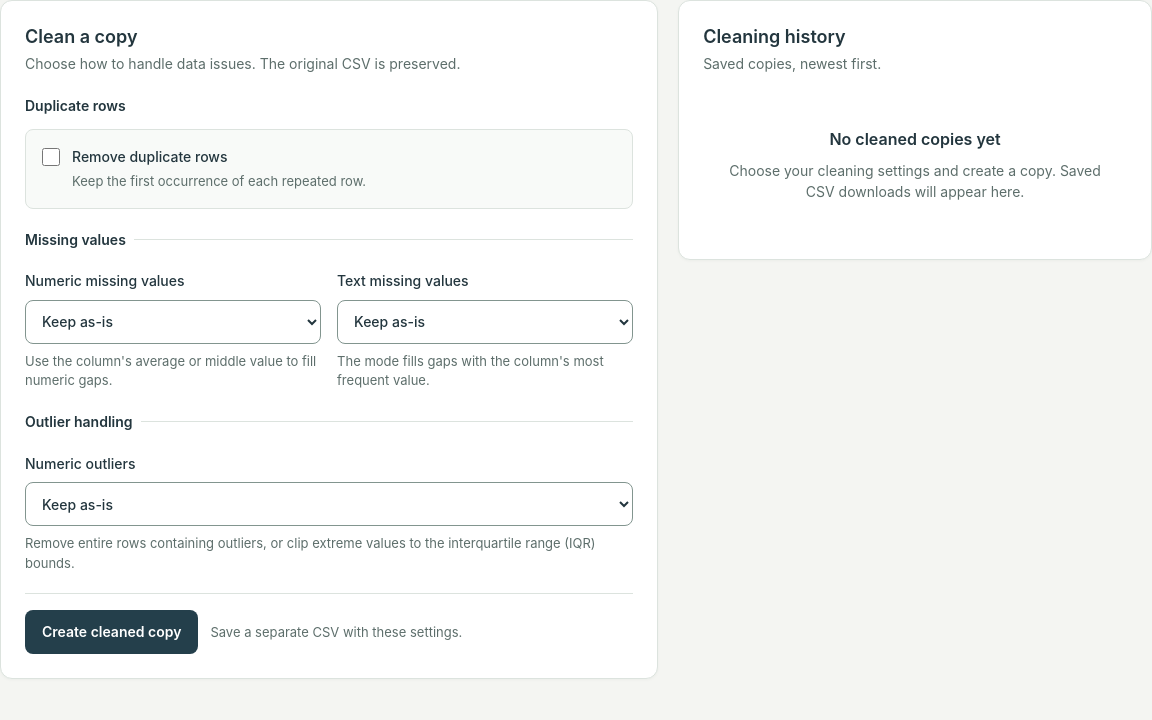
CleaningPanel › preserves the median / mode / clip_iqr cleaning request and download
The width and height of the screenshot is (1152, 720).
Expected: the heading "No cleaned copies yet" is shown, [829,129,1001,149]
Click the checkbox labelled "Remove duplicate rows".
click(51, 157)  # box [42,148,60,166]
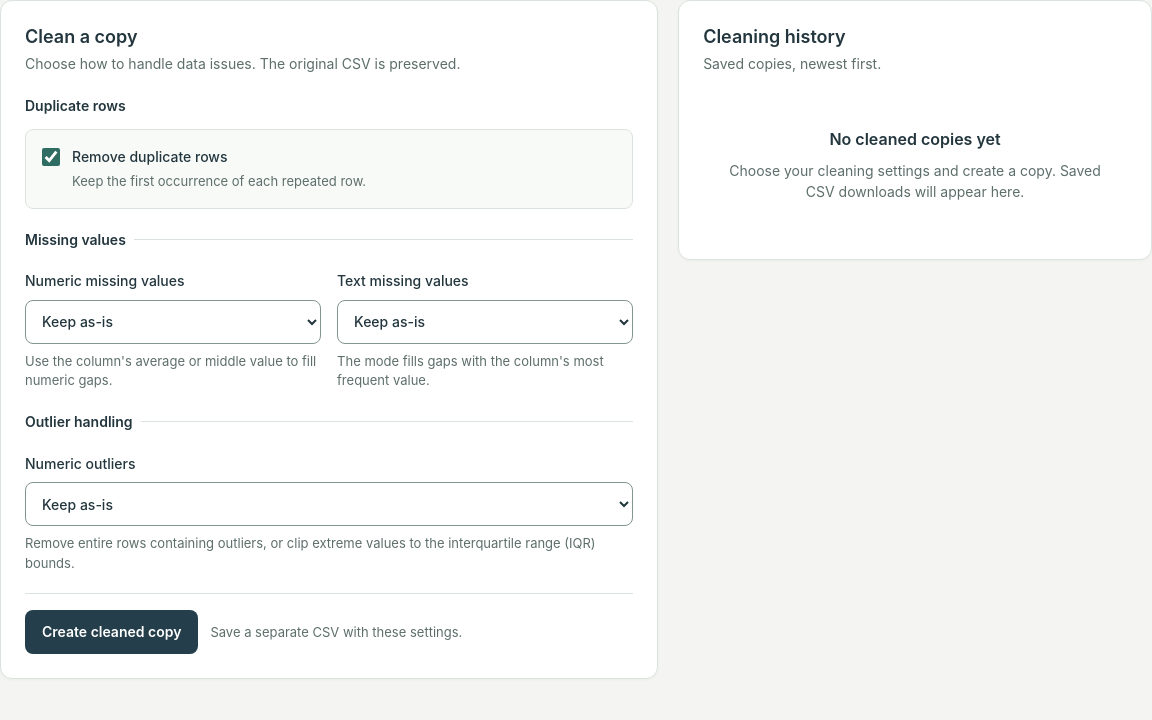
Select "Fill with median" in the dropdown labelled "Numeric missing values" at (173, 322), box [25,300,321,344]
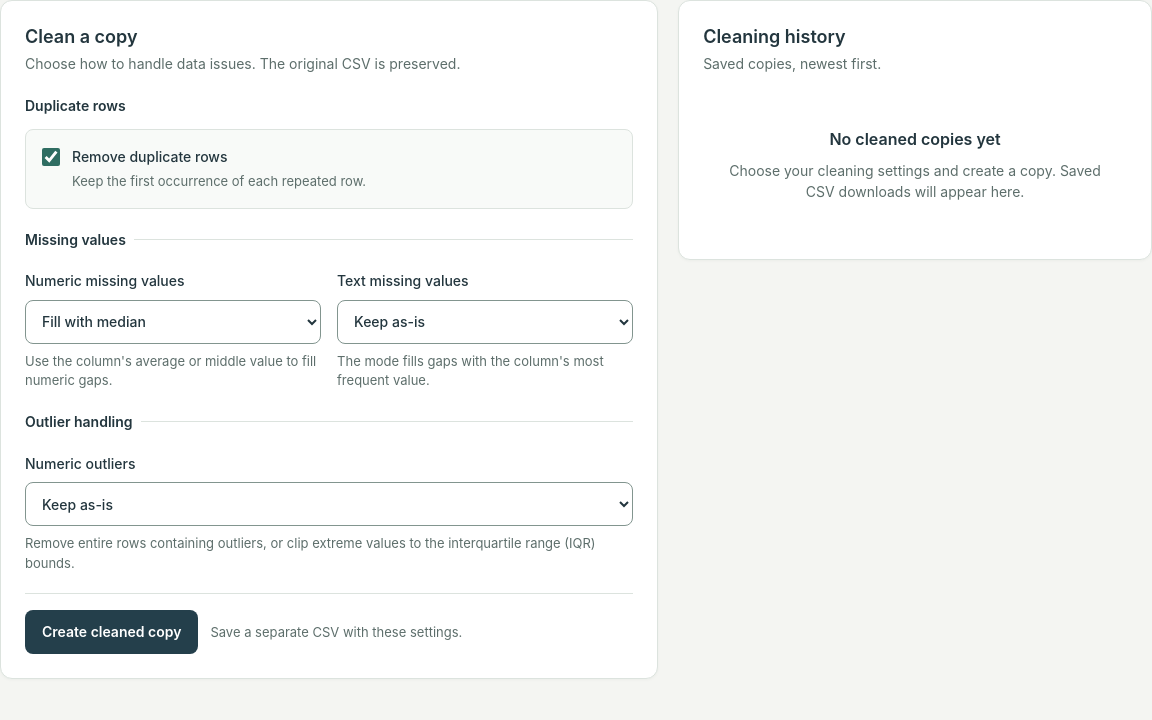
Select "Fill with mode" in the dropdown labelled "Text missing values" at (485, 322), box [337,300,633,344]
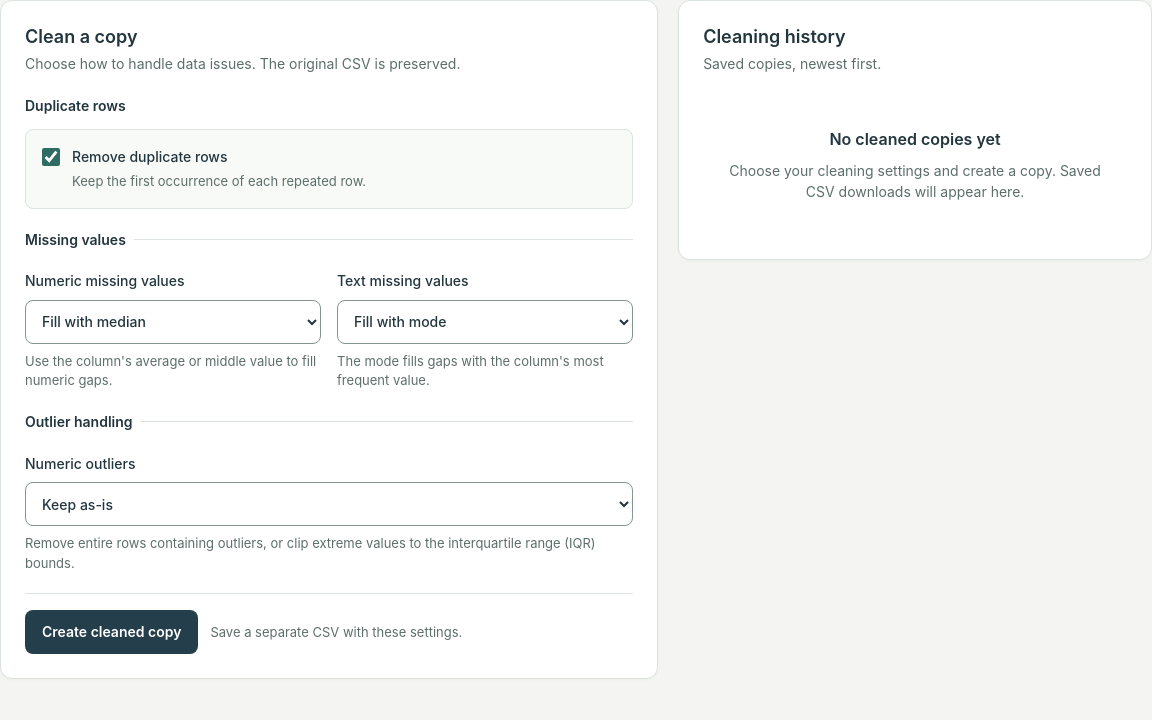
Select "Clip to IQR bounds" in the dropdown labelled "Numeric outliers" at (329, 504), box [25,482,633,526]
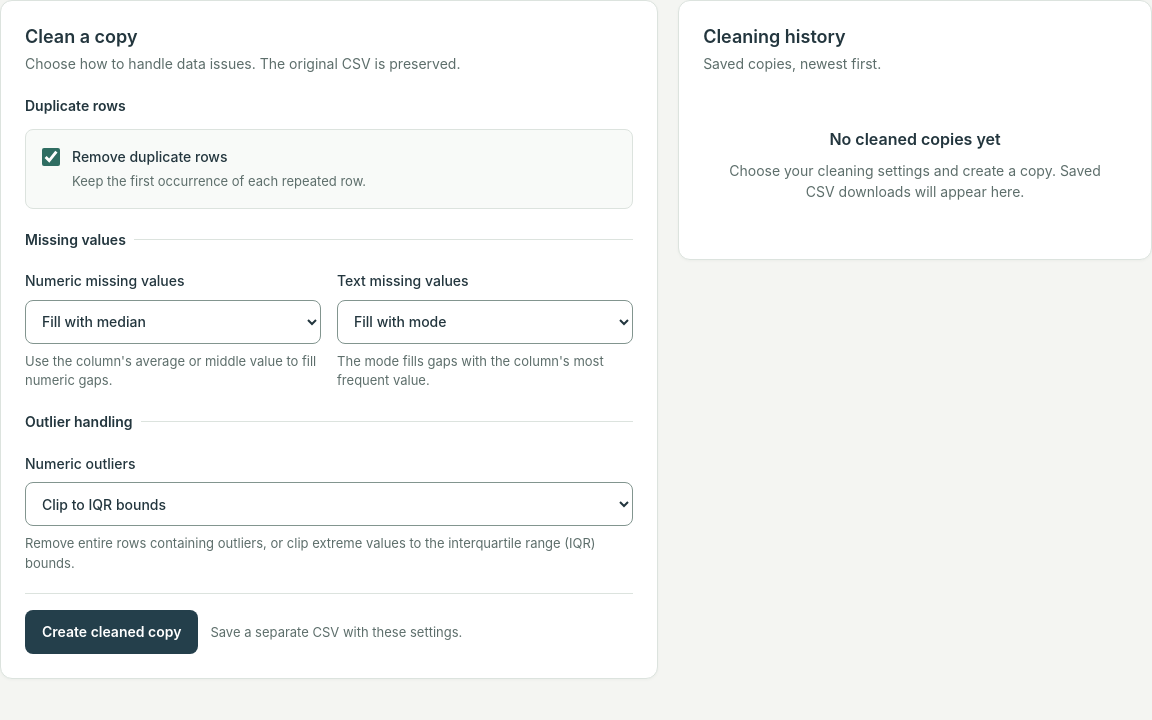
Click the button "Create cleaned copy".
click(112, 632)  # box [25,610,198,654]
(page scrolled)
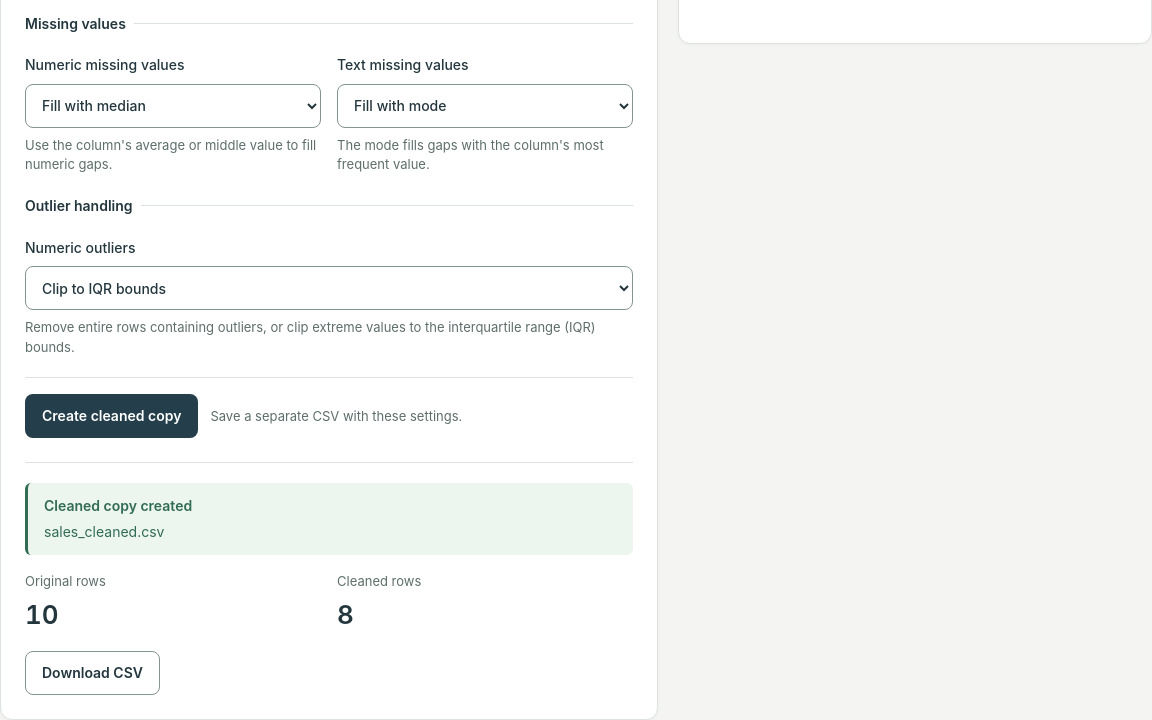
Expected: the text "Cleaned copy created" is shown, [44,497,192,514]
